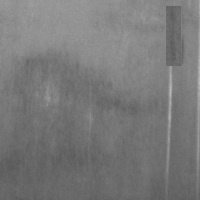inclusion: (166, 6, 181, 66)
scratches: (163, 16, 178, 175)
